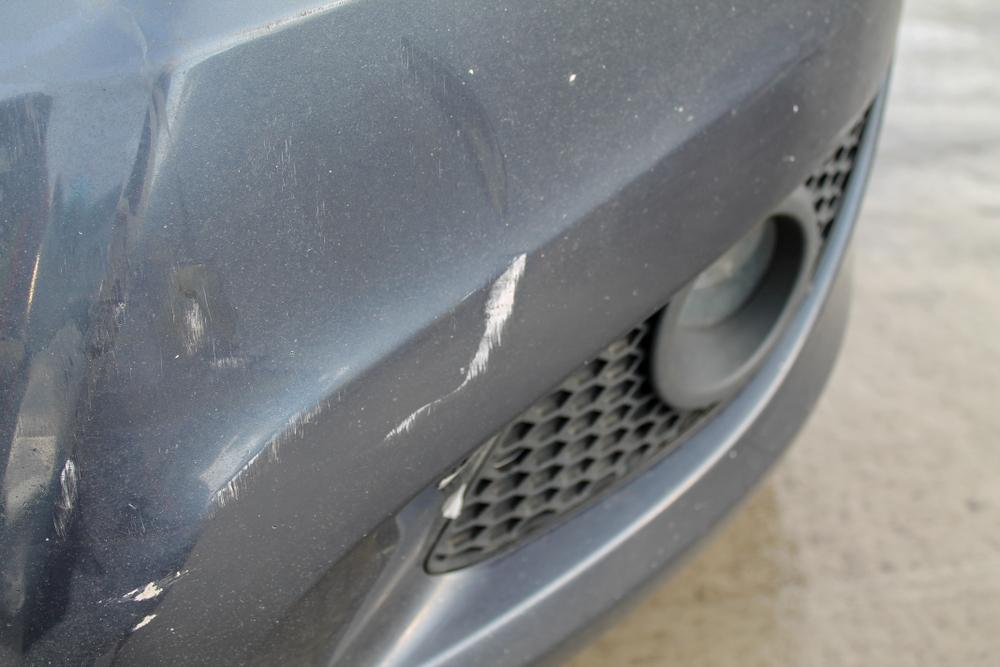scratch: (385, 248, 531, 440), (213, 392, 334, 511), (108, 566, 186, 641), (51, 455, 81, 542)
